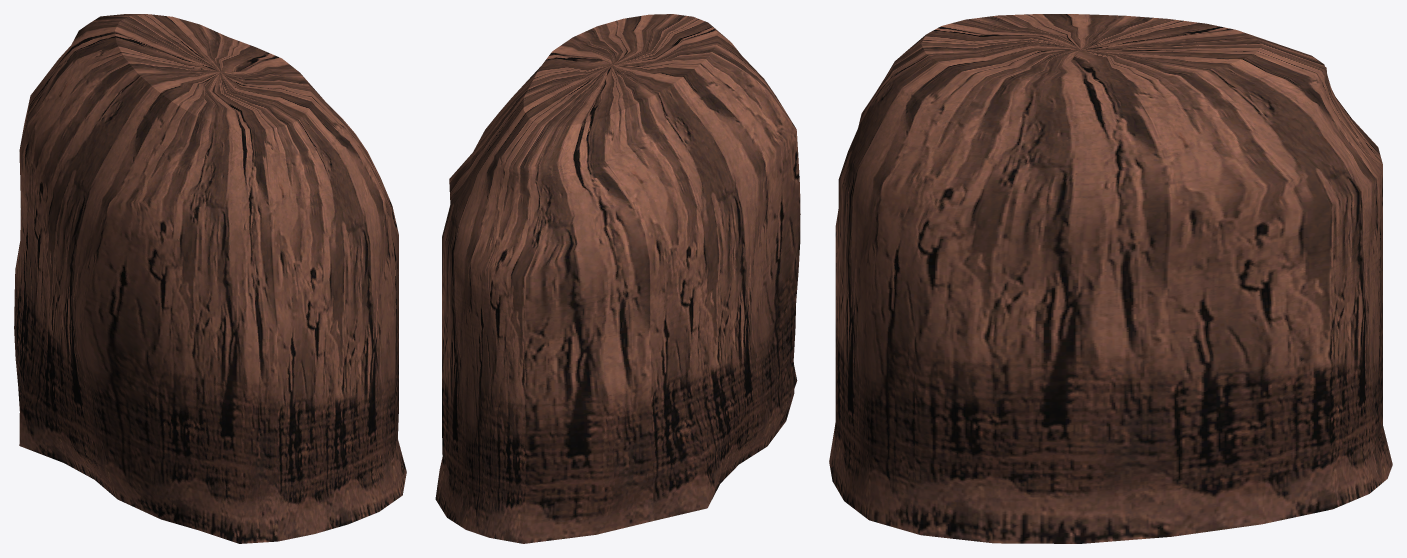
The model's file is object_67_lev2.glb.
The picture shows the model from 3 angles, left to right: view 1: azimuth 30°, elevation 25°; view 2: azimuth 150°, elevation 25°; view 3: azimuth 270°, elevation 25°; orthographic projection. The views are drawn at different scales.
Parts seen in each view (by area): view 1: object_67_lev2; view 2: object_67_lev2; view 3: object_67_lev2.
Part boxes in pixels (left/top/right/bottom): object_67_lev2: left=14, top=14, right=406, bottom=543; object_67_lev2: left=435, top=14, right=800, bottom=543; object_67_lev2: left=829, top=14, right=1392, bottom=543.
Bounding box in the file's own units: 6.4 × 8.21 × 9.93.
1 material, 1 textured.
